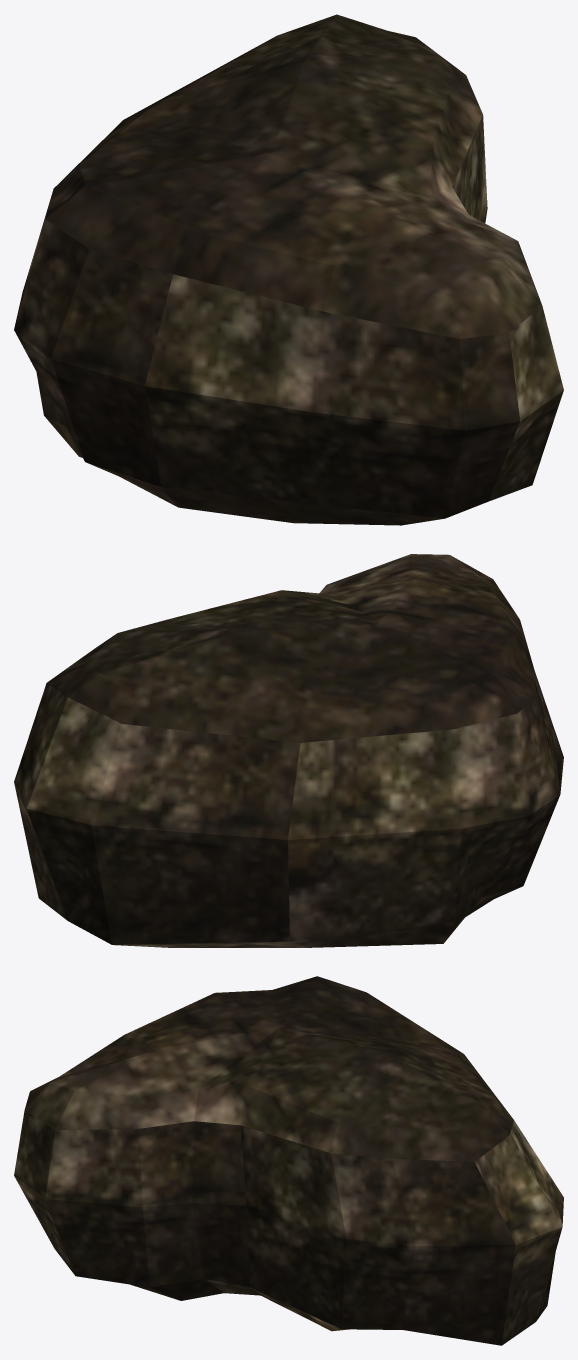
The model's file is dungeon_wall_broken_stone04.dae.
3 renders of one model, top to bottom at view 1: azimuth 30°, elevation 25°; view 2: azimuth 150°, elevation 25°; view 3: azimuth 270°, elevation 25°, orthographic. The views are drawn at different scales.
Visible parts, largest first — view 1: dungeon_wall_broken_stone04; view 2: dungeon_wall_broken_stone04; view 3: dungeon_wall_broken_stone04.
Part boxes in pixels (x1=…): dungeon_wall_broken_stone04: x1=14, y1=14, x2=563, y2=525; dungeon_wall_broken_stone04: x1=14, y1=554, x2=563, y2=947; dungeon_wall_broken_stone04: x1=14, y1=976, x2=563, y2=1345.
Bounding box in the file's own units: 0.499 × 0.3311 × 0.6175.
